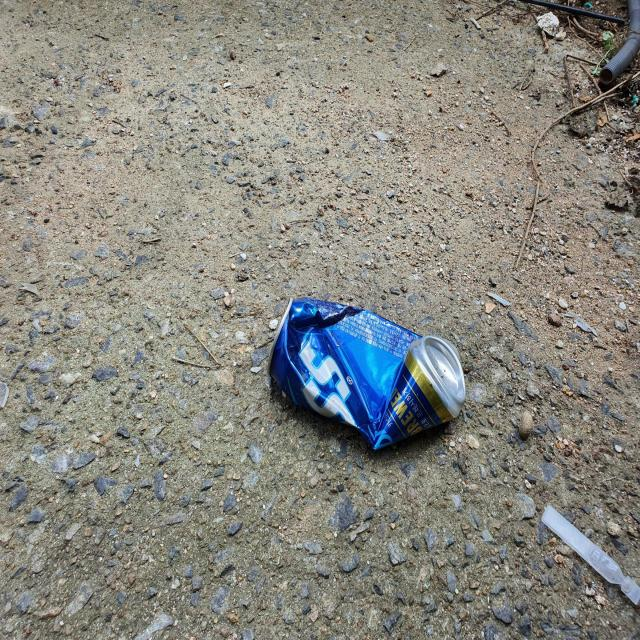can: (269, 297, 466, 450)
